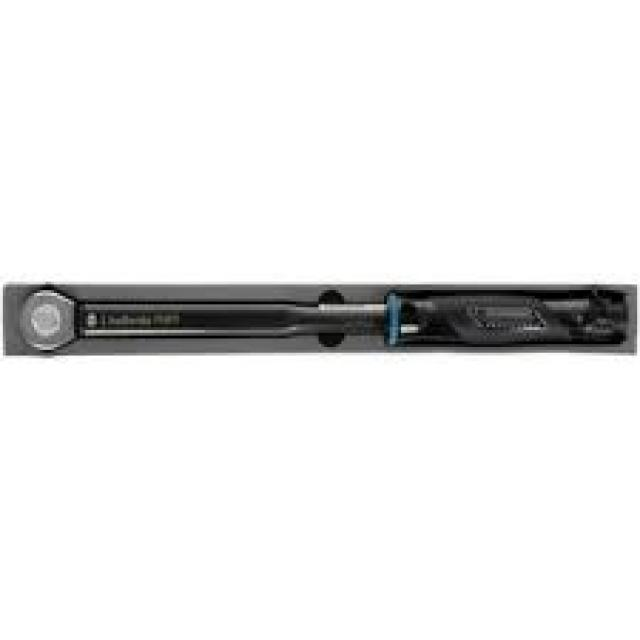wrench: (19, 278, 616, 348)
